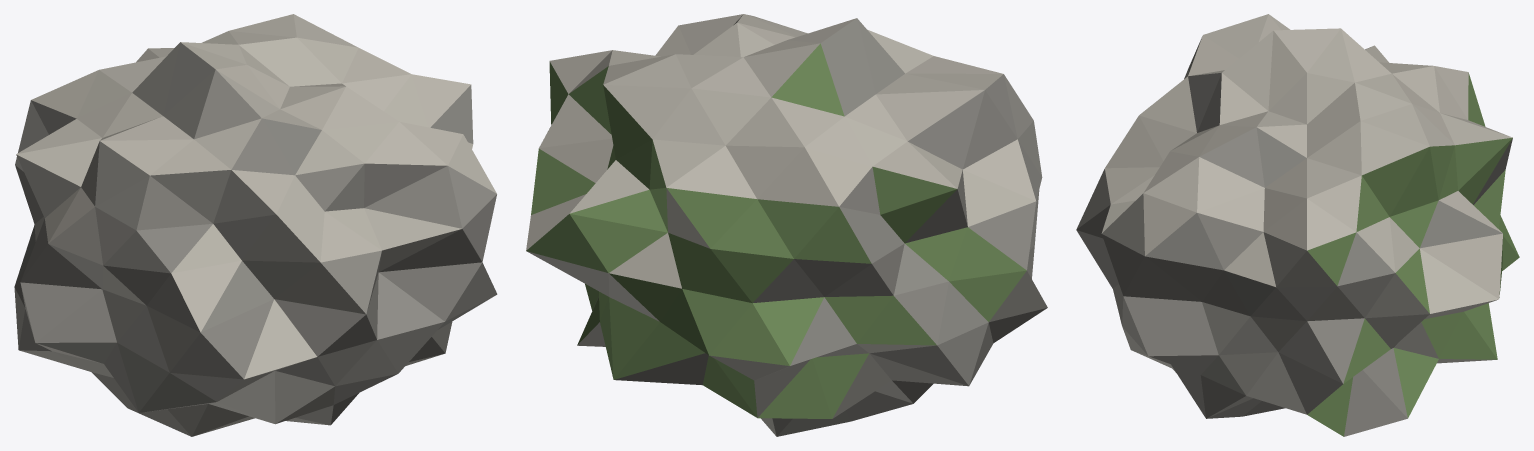
Rendered from nat_rock_c_v01.glb.
3 renders of one model, left to right at view 1: azimuth 30°, elevation 25°; view 2: azimuth 150°, elevation 25°; view 3: azimuth 270°, elevation 25°, orthographic. The views are drawn at different scales.
Parts seen in each view (by area): view 1: rock; view 2: rock; view 3: rock.
Part boxes in pixels (x1,y1,x2,y2): rock: [14, 14, 497, 436]; rock: [526, 14, 1047, 436]; rock: [1076, 14, 1519, 436].
Bounding box in the file's own units: 4.08 × 3.19 × 3.58.
